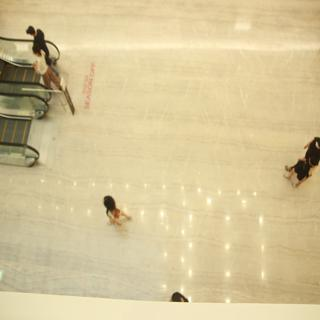person: (279, 135, 320, 197), (91, 187, 138, 235), (28, 44, 60, 88), (24, 23, 50, 49)
